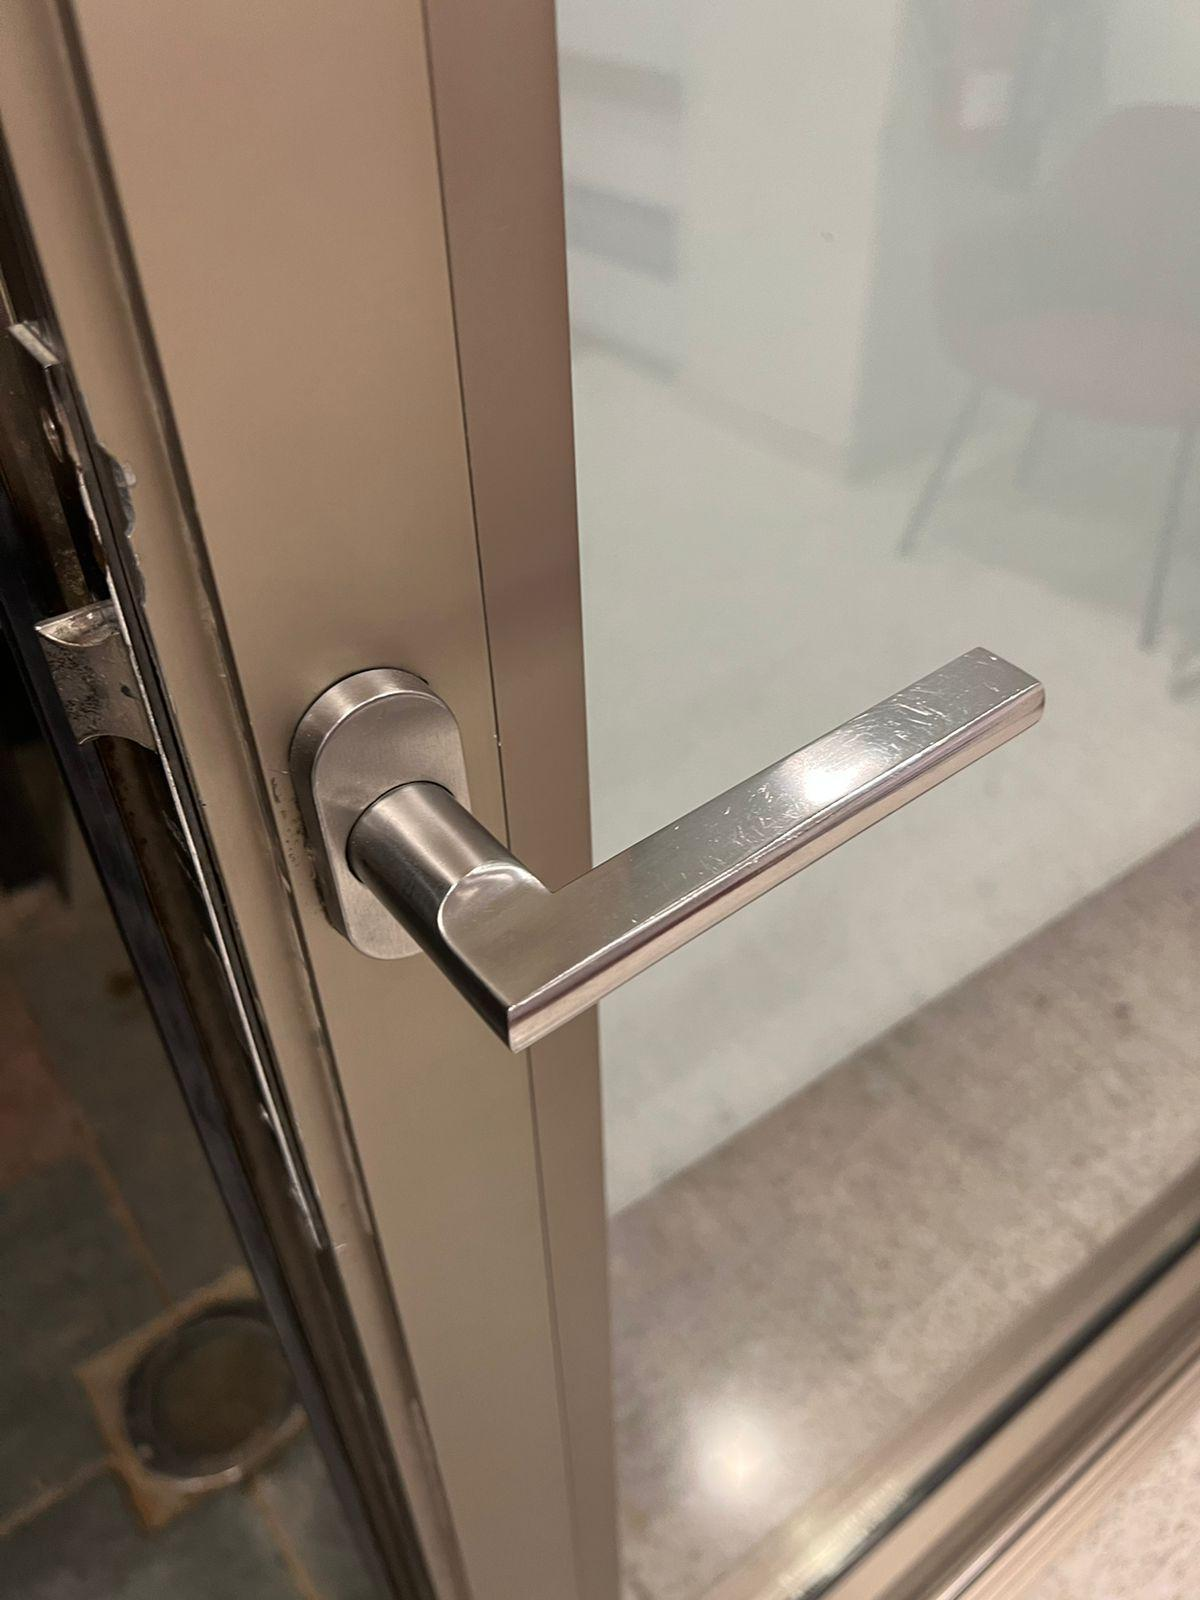door: (21, 8, 1184, 1582)
handle: (286, 650, 1045, 1067)
